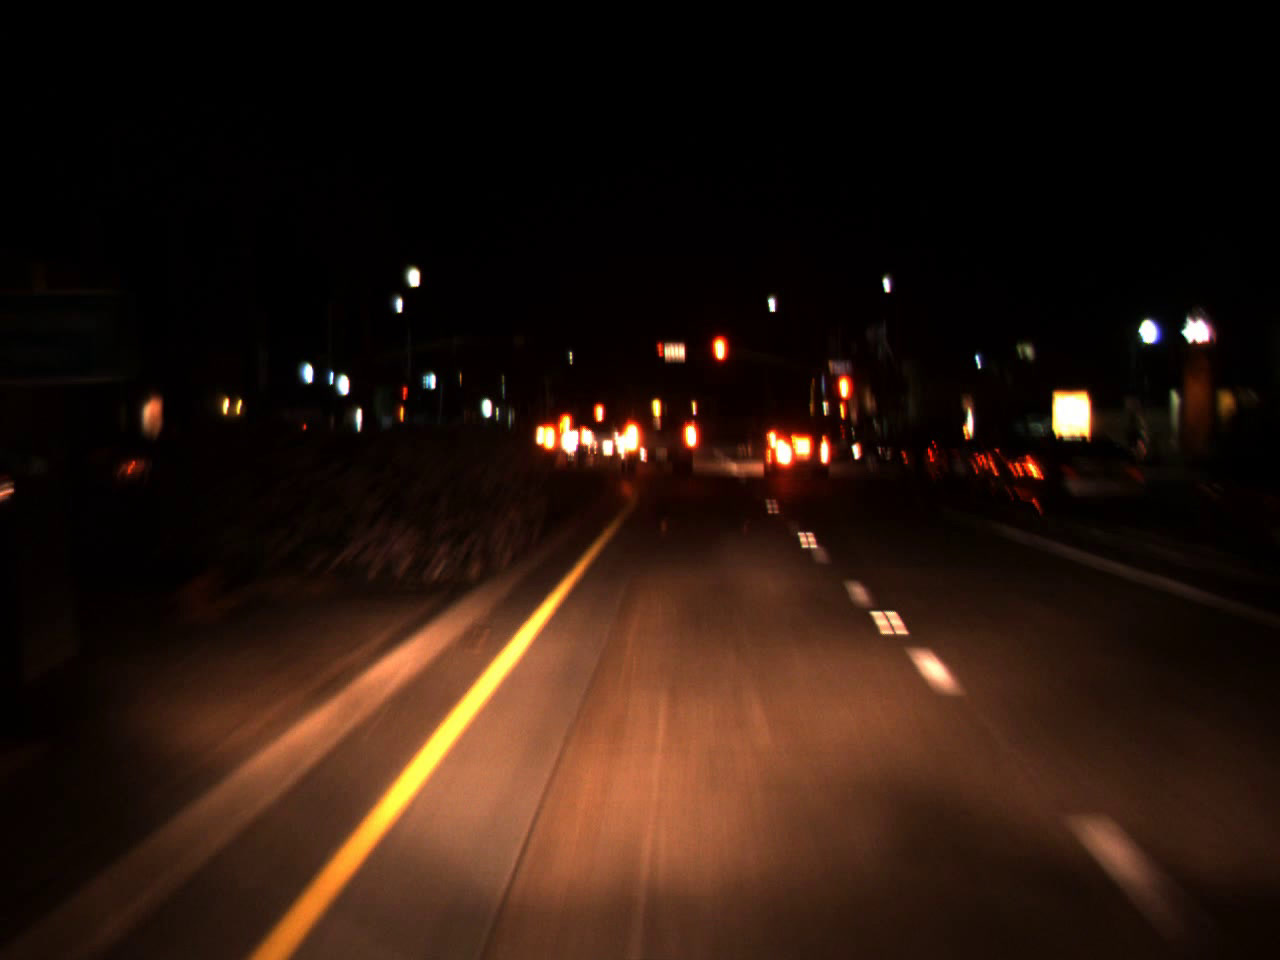stop: (709, 331, 730, 393), (834, 370, 855, 432), (656, 341, 663, 365), (402, 386, 408, 404)
